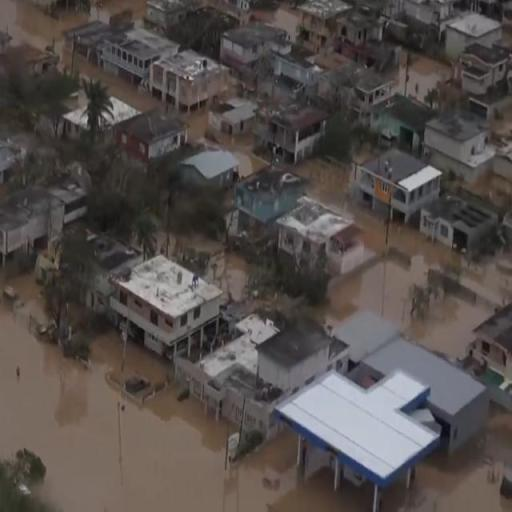flood: (0, 306, 372, 512), (285, 153, 512, 360), (0, 0, 268, 174), (382, 410, 512, 512), (156, 200, 259, 300), (0, 269, 53, 344), (398, 48, 454, 105), (251, 0, 304, 42), (353, 128, 385, 162)
house: (283, 360, 450, 507), (110, 252, 236, 366), (0, 170, 92, 270), (276, 197, 365, 289), (177, 354, 276, 432), (360, 151, 444, 229), (424, 194, 502, 263), (177, 148, 242, 222), (152, 50, 223, 116), (102, 33, 166, 93), (427, 116, 489, 177), (121, 110, 186, 167), (240, 164, 290, 238), (270, 106, 326, 168), (473, 304, 512, 386), (222, 22, 280, 64), (460, 44, 508, 90), (353, 70, 403, 112), (448, 13, 504, 49), (338, 9, 382, 43)
